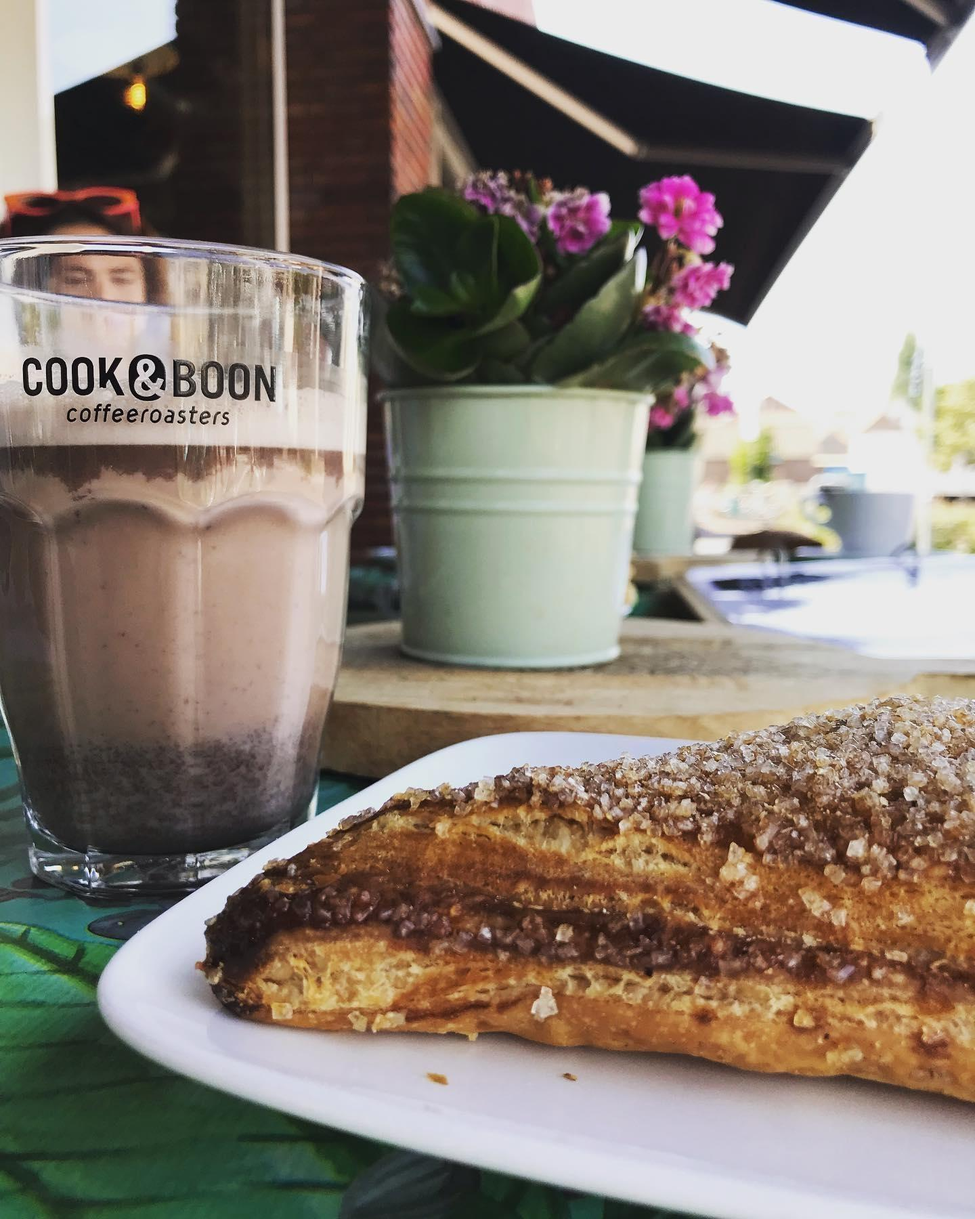glass-normal: (0, 219, 377, 895)
